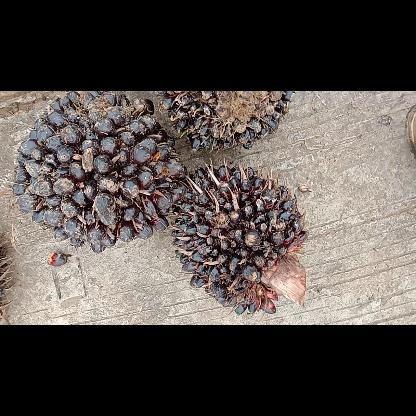TBS mentah: (10, 91, 192, 255), (172, 158, 312, 316), (153, 90, 297, 156)
